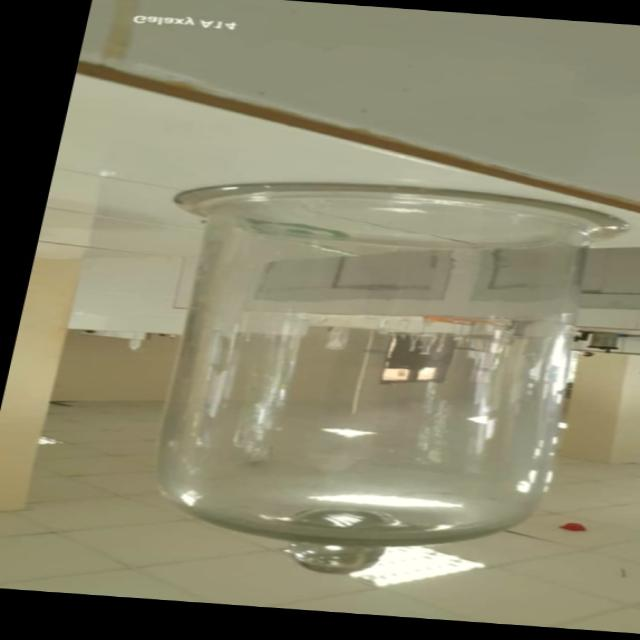Gas Bottle: (90, 169, 640, 587)
